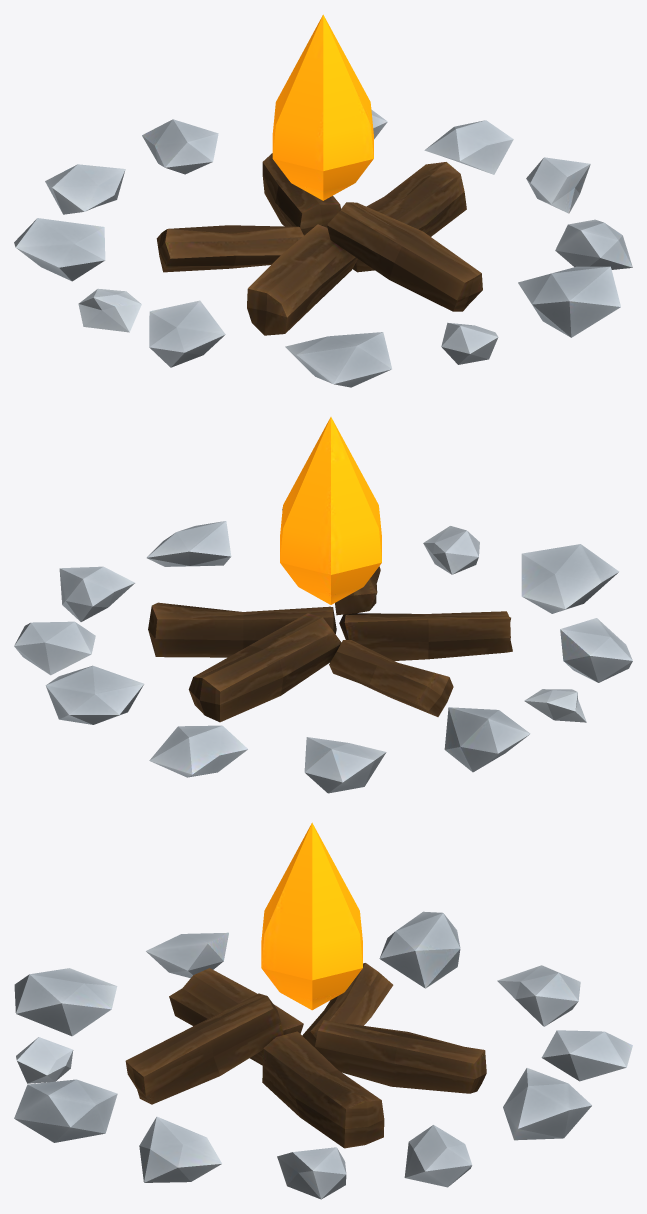
The picture shows the model from 3 angles, top to bottom: view 1: azimuth 30°, elevation 25°; view 2: azimuth 150°, elevation 25°; view 3: azimuth 270°, elevation 25°; orthographic projection.
Parts seen in each view (by area): view 1: Geode; view 2: Geode; view 3: Geode.
Boxes of the visible parts, x1,y1,x2,y2 form: Geode: (14, 14, 632, 387); Geode: (14, 417, 632, 793); Geode: (14, 822, 632, 1199).
Bounding box in the file's own units: 1.96 × 0.8943 × 2.
Materials: 1 (1 with a texture image).
